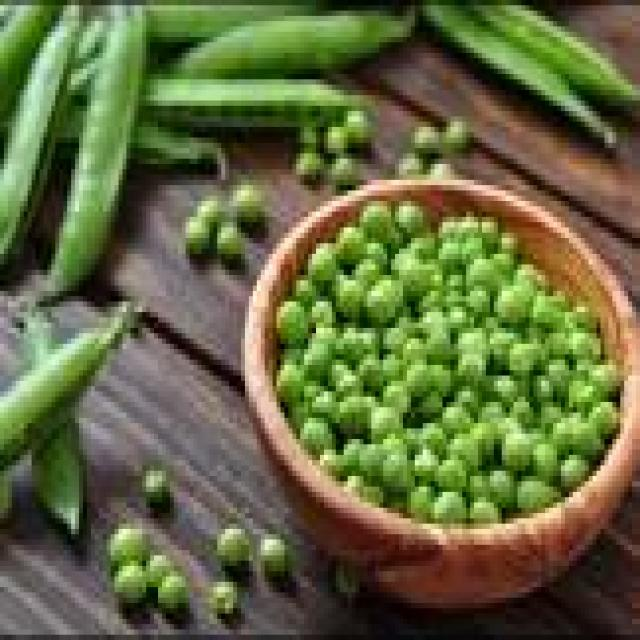besala: (285, 186, 610, 536)
